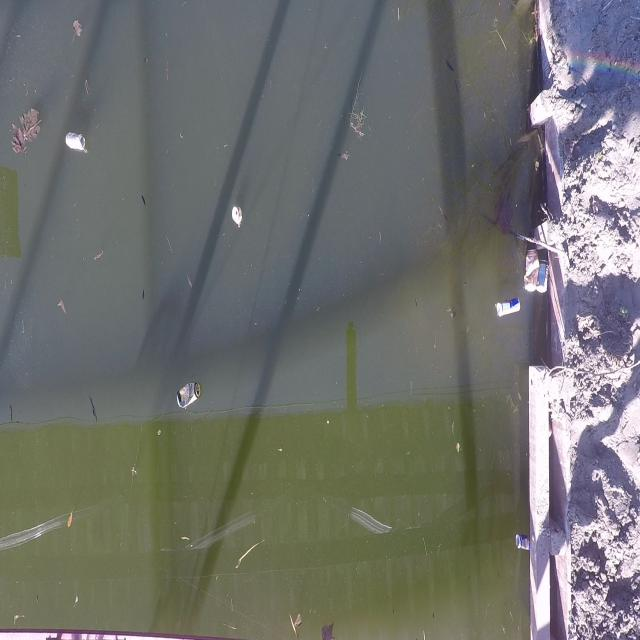Non plastique: (176, 381, 201, 408), (524, 250, 538, 291), (496, 298, 521, 316), (537, 259, 548, 292), (66, 133, 84, 149), (516, 535, 530, 549), (232, 208, 242, 224)
